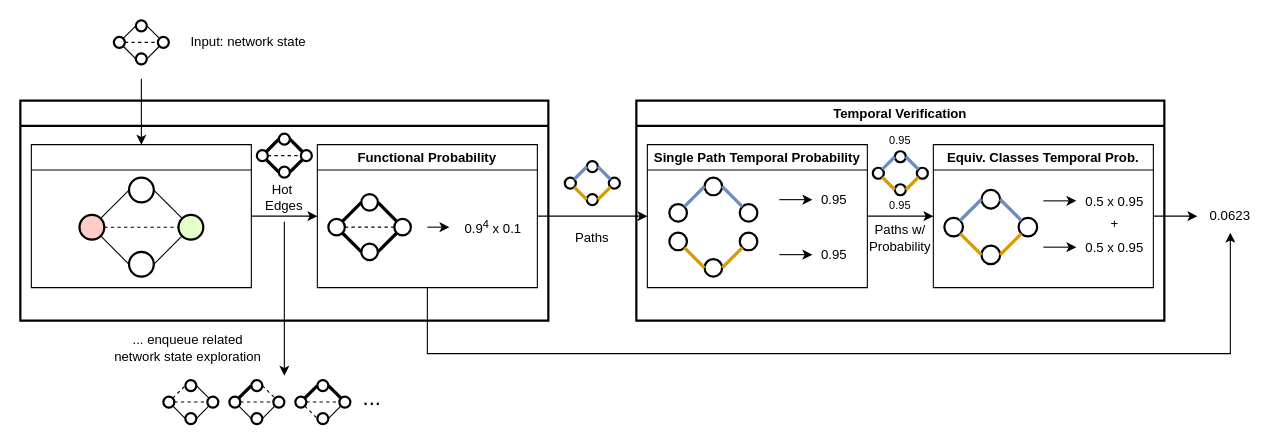
This 1282x443 diagram has some shape labels left out. The box of each missing label's shape, as (x1, y1, x2, y2) in pixels:
Functional Verification: (19, 99, 549, 321)
Path Calculation: (30, 144, 251, 288)
